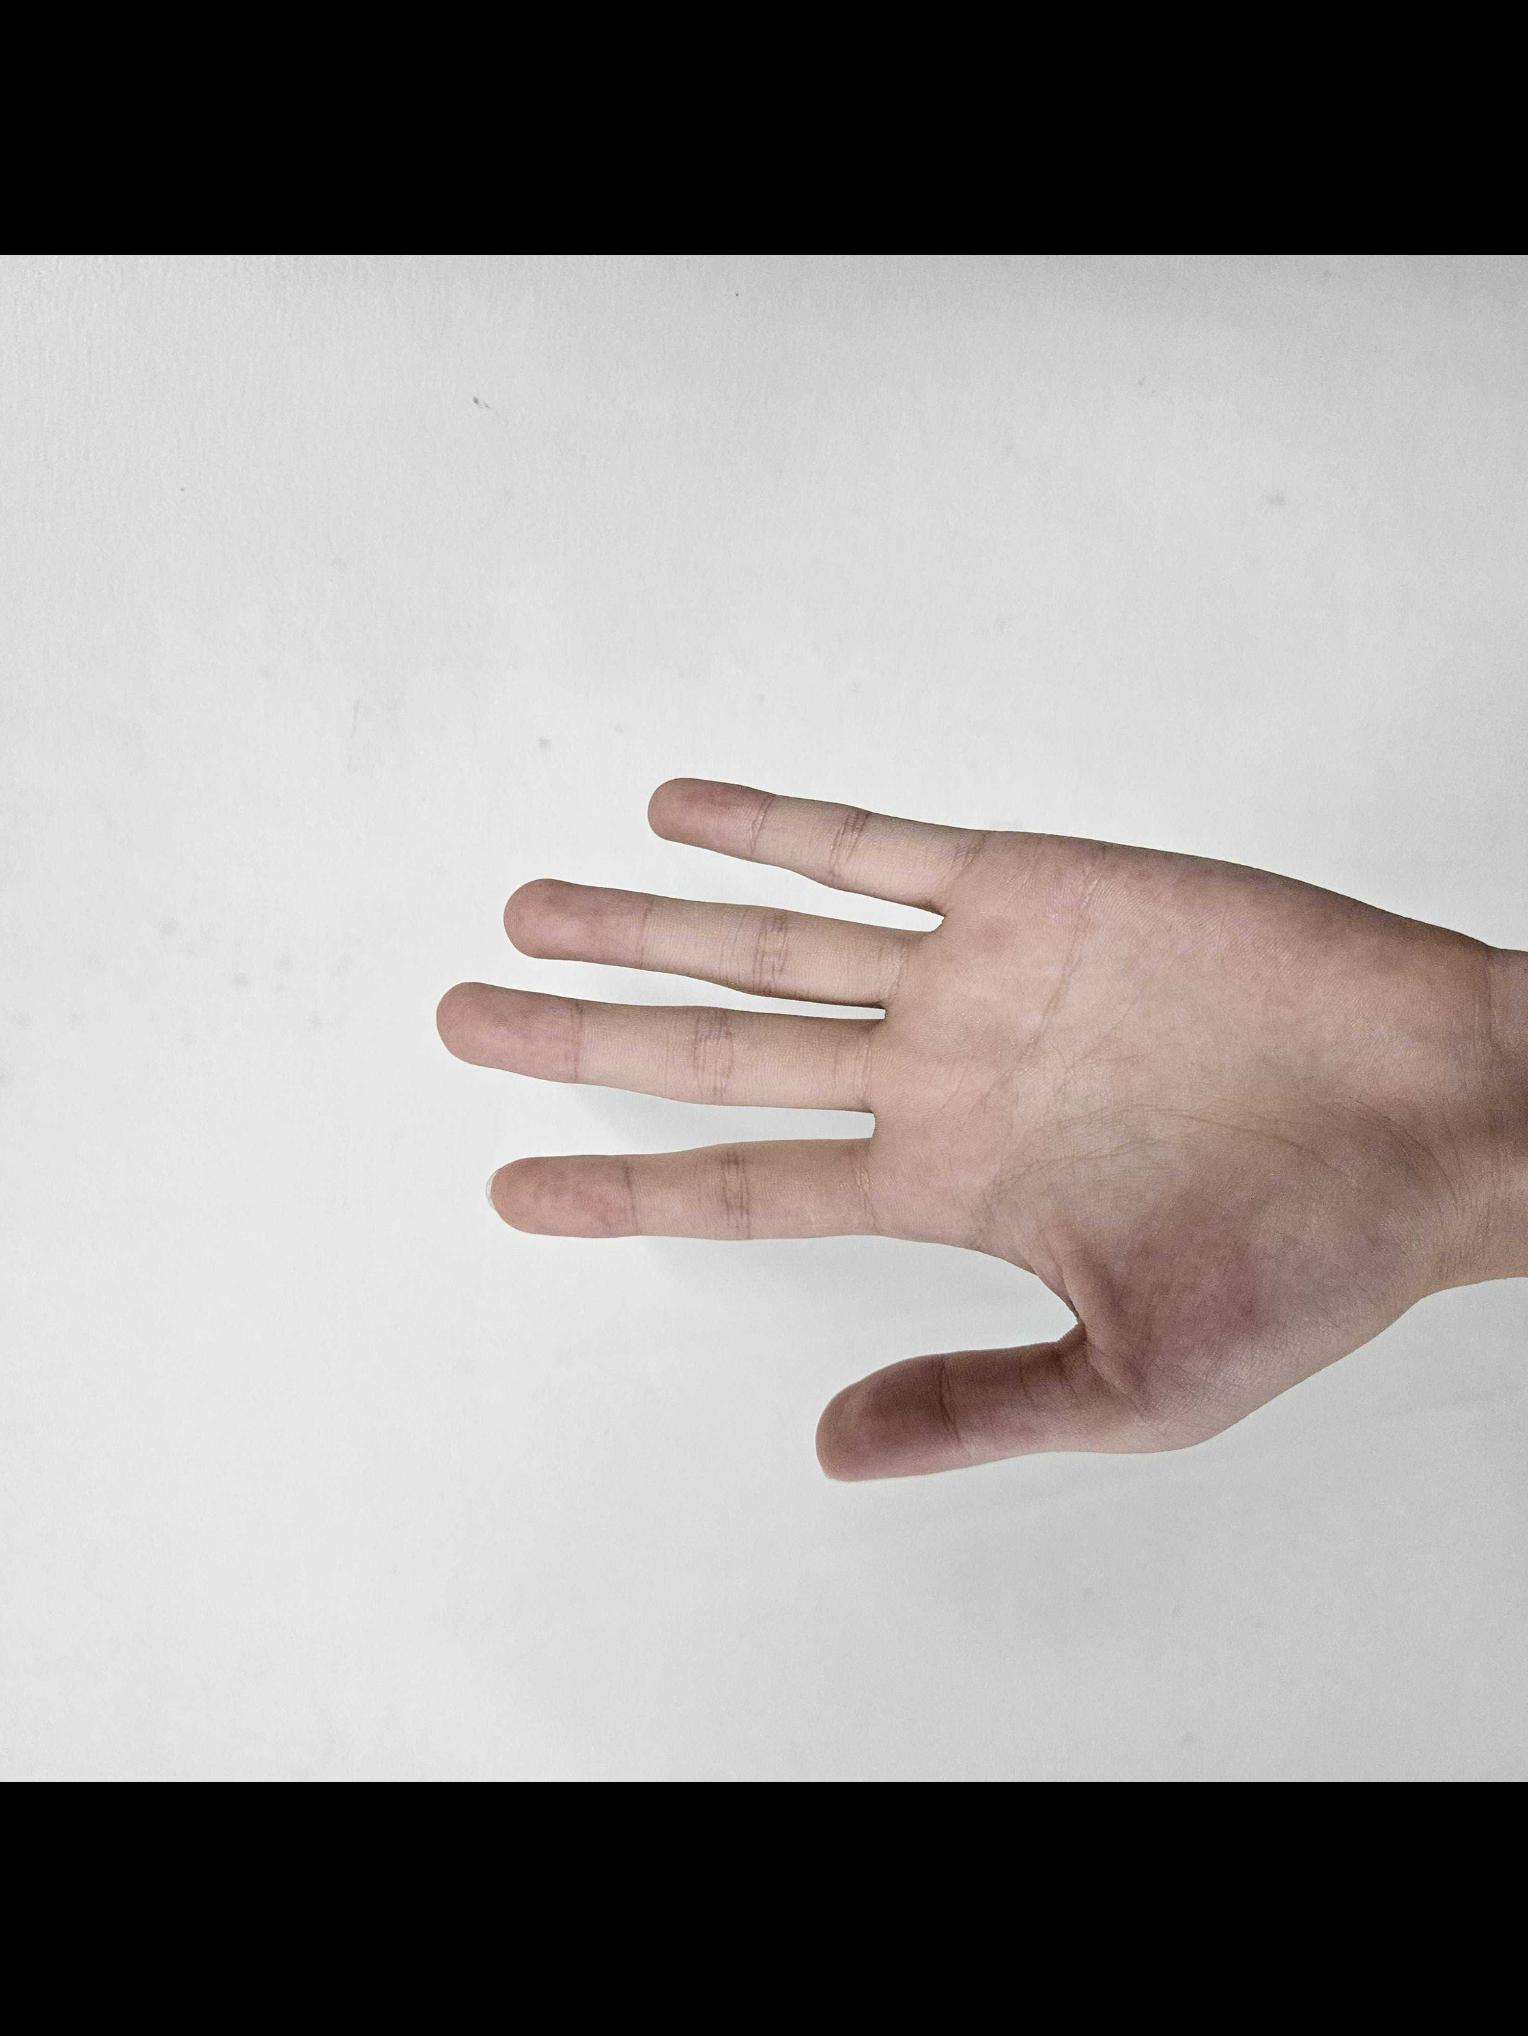open: (414, 759, 1506, 1487)
